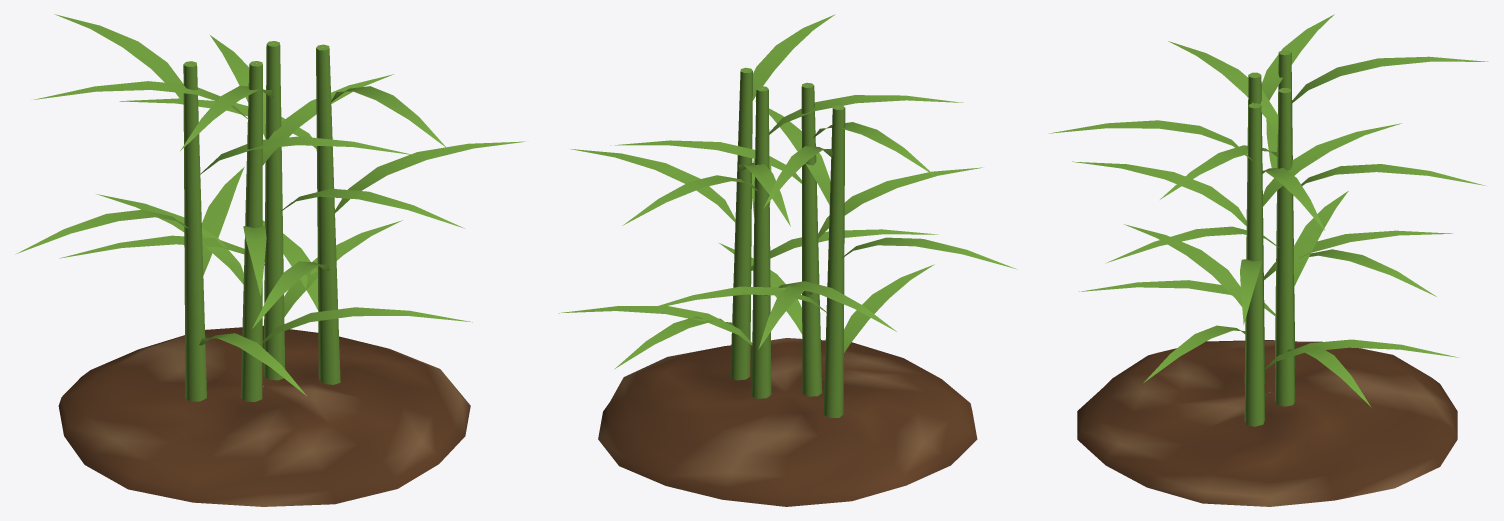
File: plant-corn-3.gltf
The picture shows the model from 3 angles, left to right: view 1: azimuth 30°, elevation 25°; view 2: azimuth 150°, elevation 25°; view 3: azimuth 270°, elevation 25°; orthographic projection. The views are drawn at different scales.
Size of the model in its own units: 1.8 by 1.26 by 1.47.
